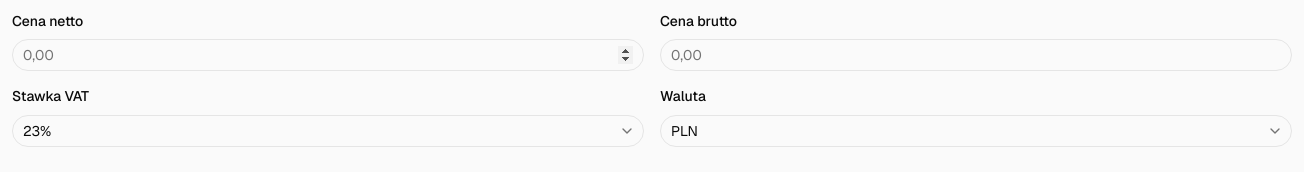
Test case: PricingStep › recalculates the net price from the gross price
In the number field labelled "Cena brutto": (976, 55) [660,39,1292,71], type "246"
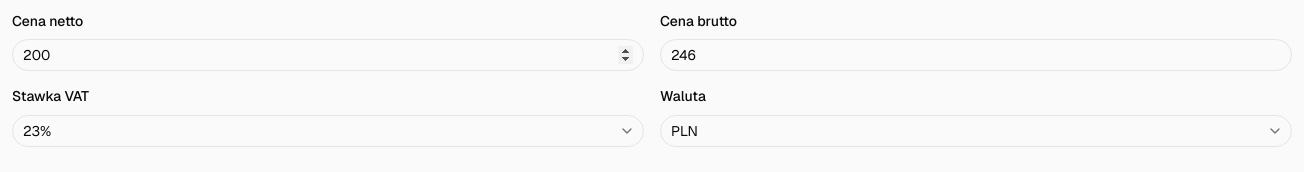
Result: the number field labelled "Cena netto" holds "200" at [12,39,644,71]
